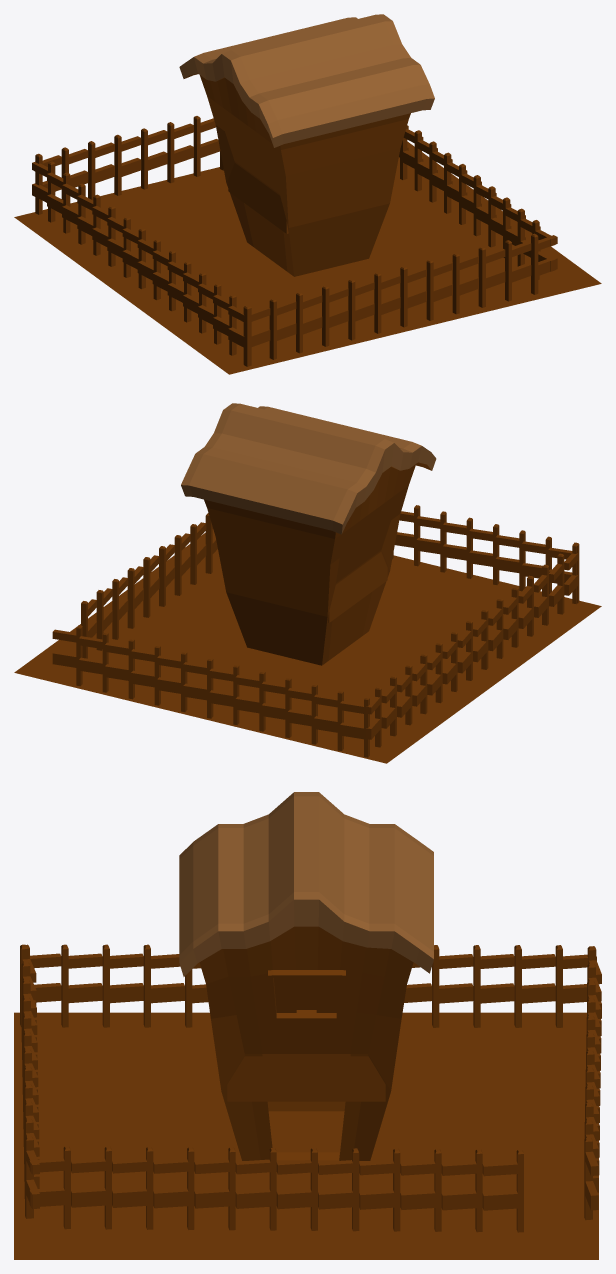
File: Barn.fbx
3 views of the same model, one above another, from view 1: azimuth 30°, elevation 25°; view 2: azimuth 150°, elevation 25°; view 3: azimuth 270°, elevation 25° (orthographic). The views are drawn at different scales.
Parts seen in each view (by area): view 1: Cube, Cube.002, Cube.001, Cube.004, Cube.003; view 2: Cube, Cube.003, Cube.001, Cube.004, Cube.002; view 3: Cube, Cube.004, Cube.001, Cube.002, Cube.003.
Part boxes in pixels (<box>): Cube: <box>14,14,601,374</box>; Cube.002: <box>243,233,557,364</box>; Cube.001: <box>32,161,251,366</box>; Cube.004: <box>399,125,555,279</box>; Cube.003: <box>35,116,223,214</box>; Cube: <box>14,403,601,763</box>; Cube.003: <box>52,625,369,757</box>; Cube.001: <box>366,542,579,747</box>; Cube.004: <box>81,513,217,658</box>; Cube.002: <box>392,505,576,604</box>; Cube: <box>14,792,598,1259</box>; Cube.004: <box>29,1146,523,1232</box>; Cube.001: <box>20,944,596,1027</box>; Cube.002: <box>21,944,39,1218</box>; Cube.003: <box>584,946,601,1220</box>.
Bounding box in the file's own units: 739 × 407 × 743.
